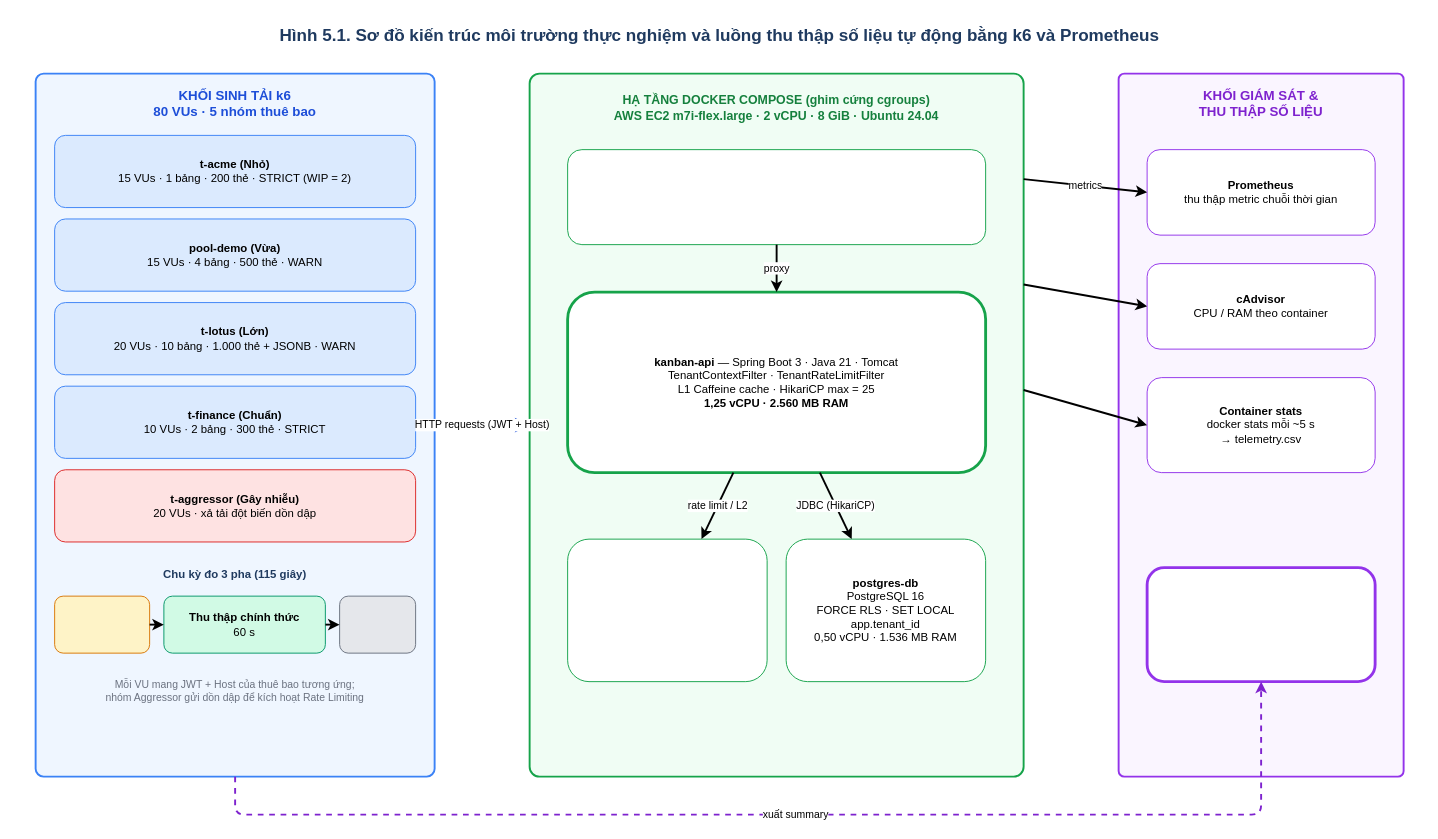
This 1438x839 diagram has some shape labels left out. Each missing label, with the centre of its shape:
"Cooldown 25 s" belongs at point 377,624.
"kanban-web React 18 + Caddy Reverse Proxy 0,25 vCPU · 256 MB RAM" belongs at point 776,197.
"Raw k6 summary baseline_summary.json proposed_summary.json" belongs at point 1260,624.
"redis-cache Redis 7 Token Bucket · L2 Cache · Pub/Sub 0,25 vCPU · 512 MB RAM" belongs at point 667,610.
"Warm-up 30 s" belongs at point 102,624.
